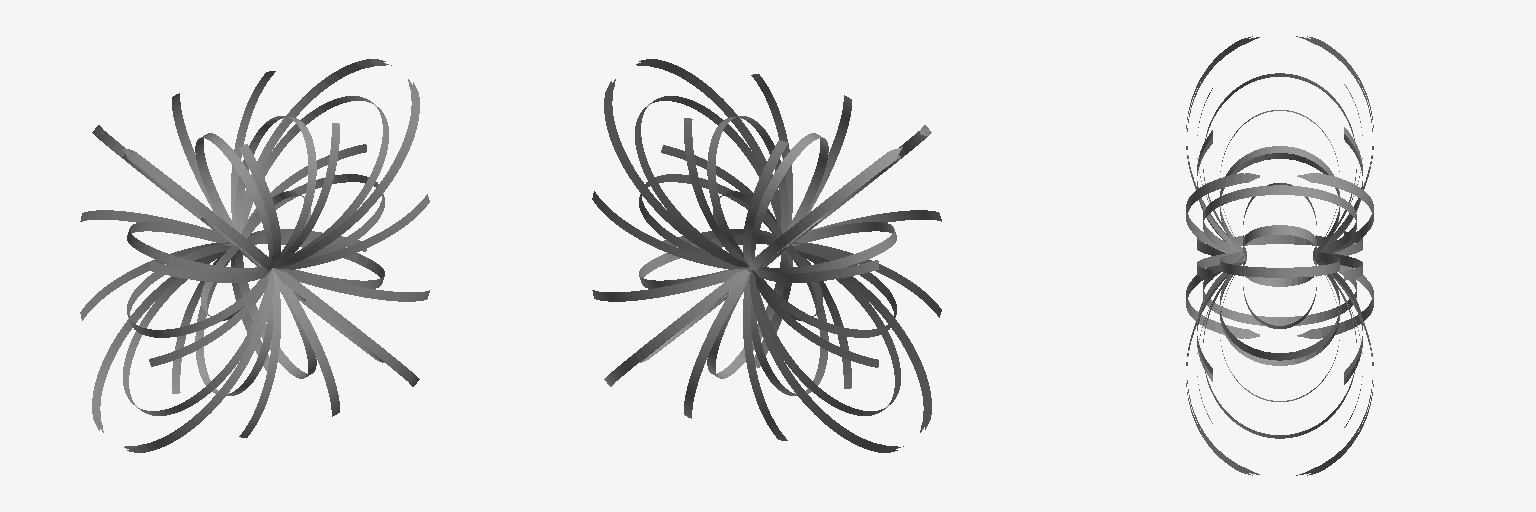
The model's file is maglines1.obj.
The picture shows the model from 3 angles: view 1: azimuth 30°, elevation 25°; view 2: azimuth 150°, elevation 25°; view 3: azimuth 270°, elevation 25°; orthographic projection.
Visible parts, largest first — view 1: mag; view 2: mag; view 3: mag.
Boxes of the visible parts, box(x1,y1,x2,y2) form: mag: box(80, 59, 429, 452); mag: box(592, 59, 941, 452); mag: box(1186, 36, 1373, 475).
Bounding box in the file's own units: 10 × 10 × 5.68.